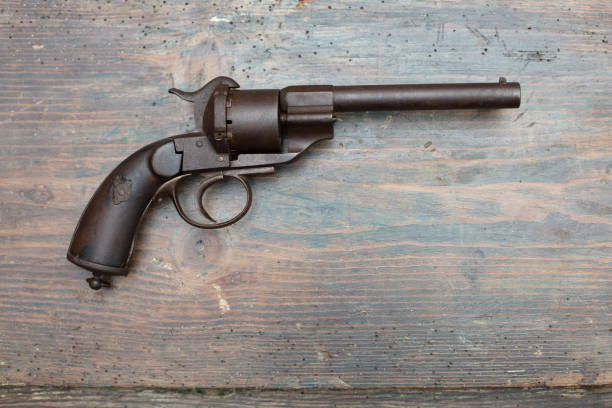gun: (63, 74, 522, 291)
